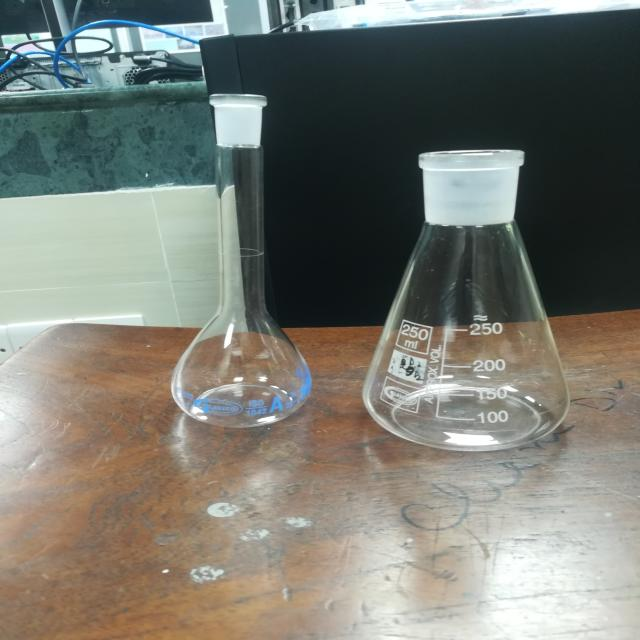Conical_Flask: (353, 126, 600, 473)
Volumetric_Flask: (164, 65, 318, 438)
